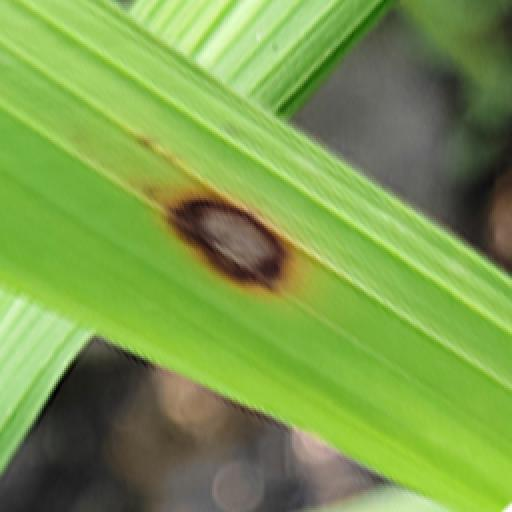Brown Spot: (158, 188, 300, 302)
